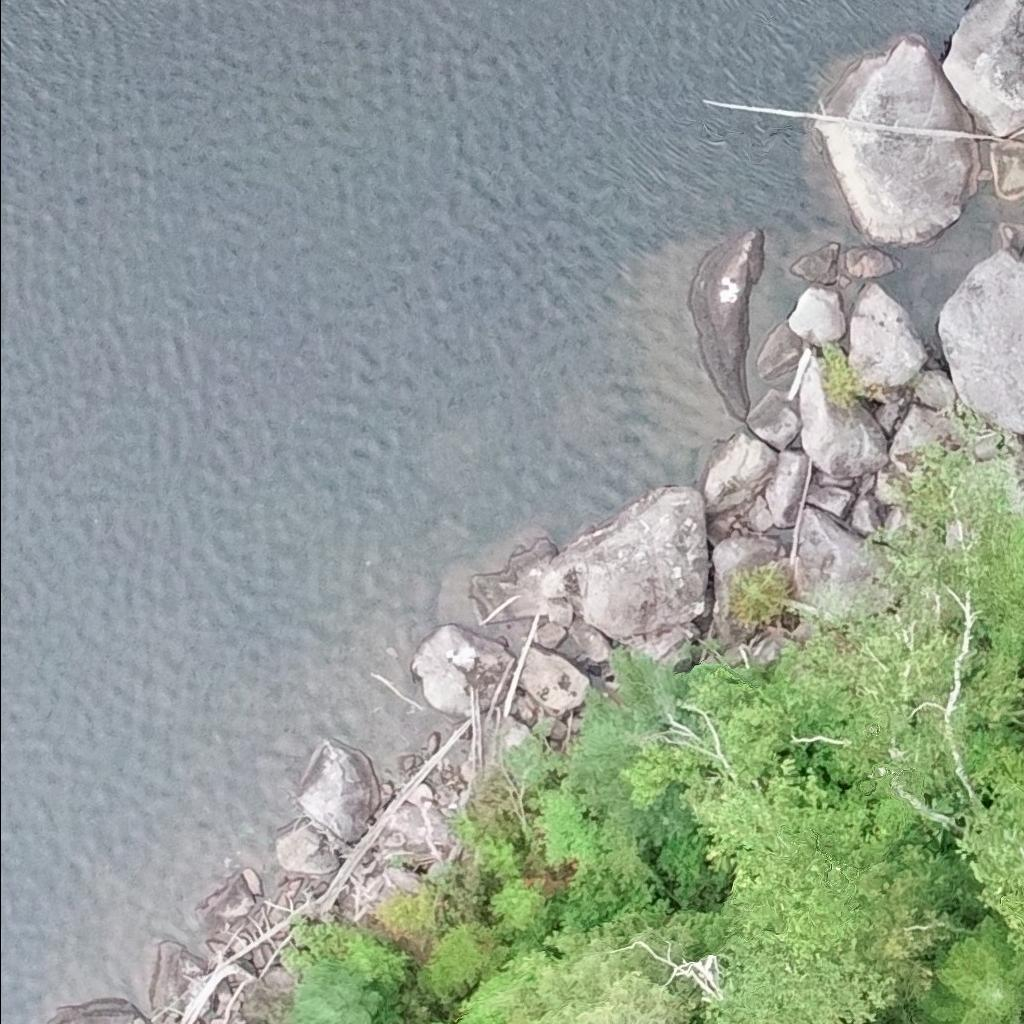crown: (688, 756, 867, 955), (704, 930, 895, 1023), (520, 936, 687, 1023), (911, 909, 1023, 1023), (954, 785, 1023, 954), (450, 966, 534, 1023), (990, 740, 1023, 799)
